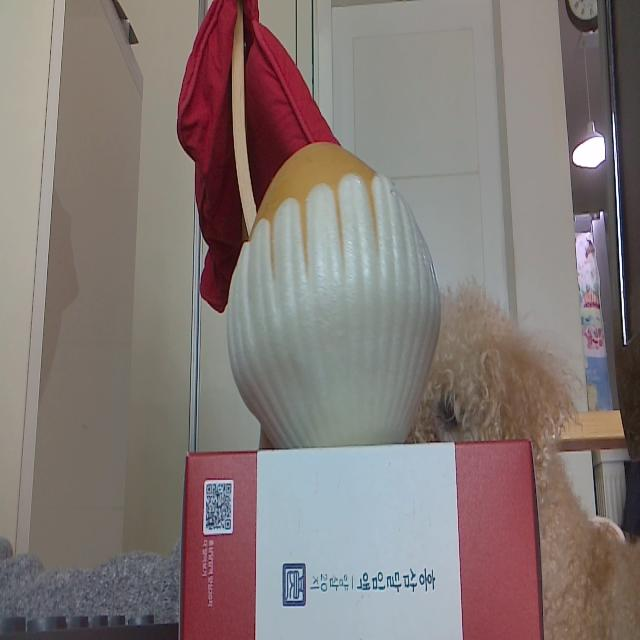pear: (228, 140, 439, 444)
